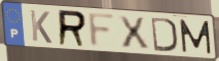D: (150, 16, 179, 53)
F: (87, 11, 117, 49)
K: (28, 8, 54, 45)
M: (178, 18, 213, 55)
R: (57, 9, 88, 49)
X: (116, 15, 151, 50)
